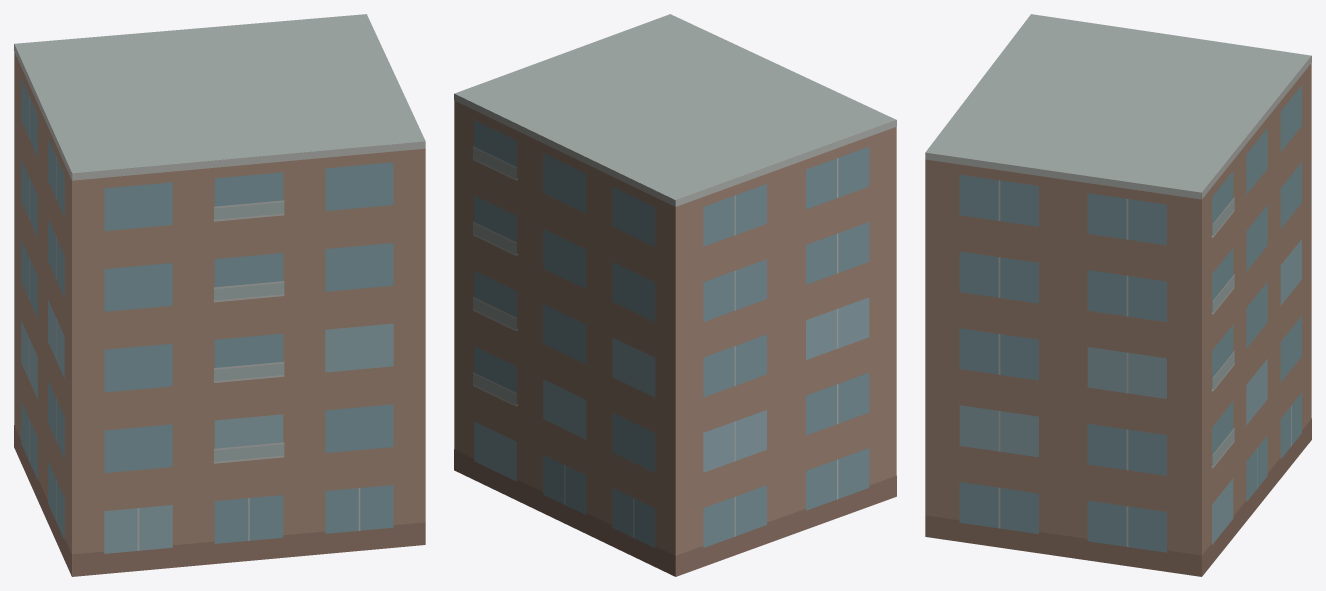
Rendered from survey-upis-32875174.glb.
The picture shows the model from 3 angles, left to right: view 1: azimuth 30°, elevation 25°; view 2: azimuth 150°, elevation 25°; view 3: azimuth 270°, elevation 25°; orthographic projection. The views are drawn at different scales.
Parts seen in each view (by area): view 1: survey-upis-32875174.tmp; view 2: survey-upis-32875174.tmp; view 3: survey-upis-32875174.tmp.
Part boxes in pixels (<box>): survey-upis-32875174.tmp: <box>14,14,425,576</box>; survey-upis-32875174.tmp: <box>454,14,896,576</box>; survey-upis-32875174.tmp: <box>925,14,1311,576</box>.
Bounding box in the file's own units: 13.57 × 13.6 × 12.41.
